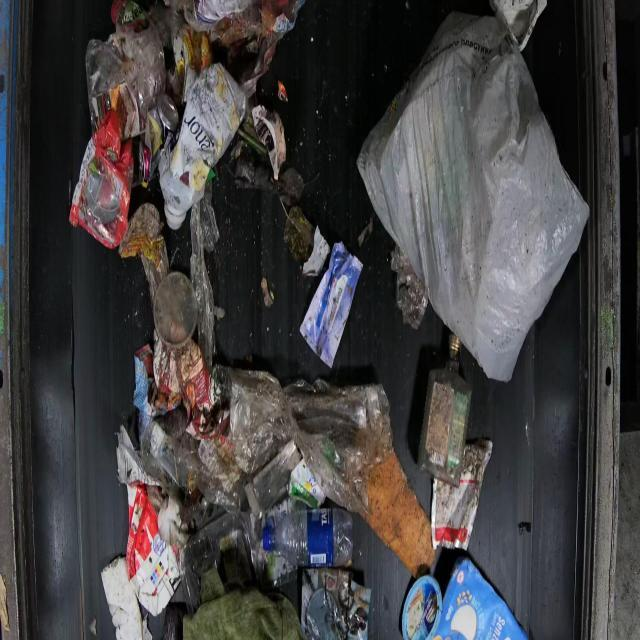paper: (355, 5, 590, 382)
